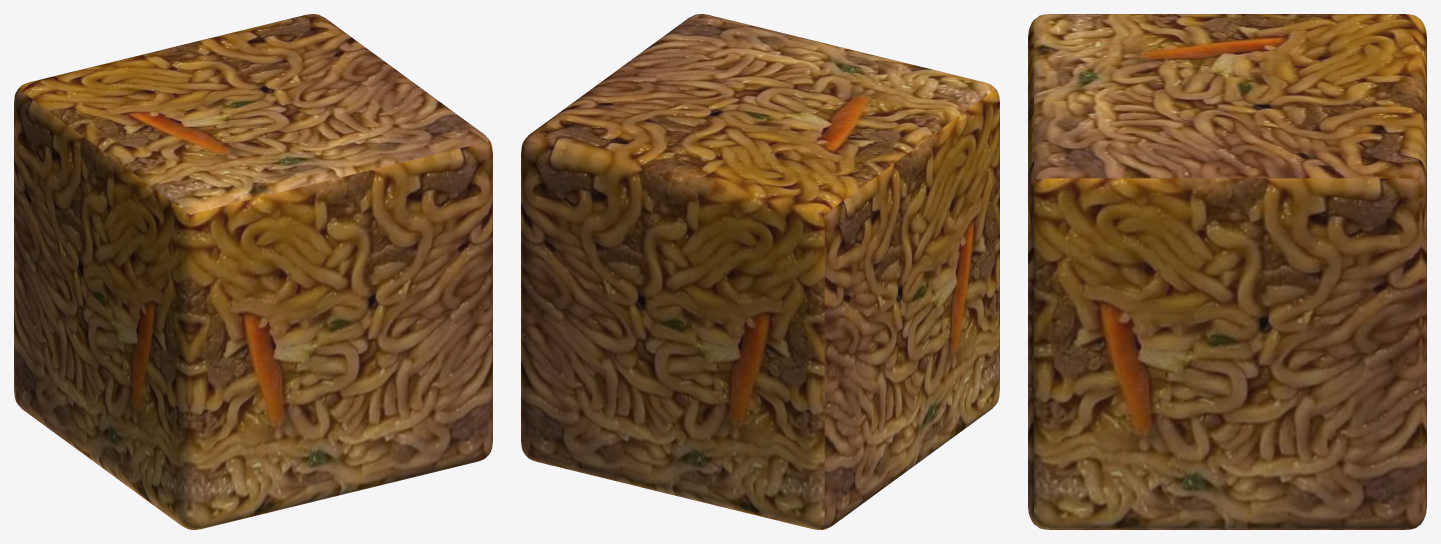
3 renders of one model, left to right at view 1: azimuth 30°, elevation 25°; view 2: azimuth 150°, elevation 25°; view 3: azimuth 270°, elevation 25°, orthographic. The views are drawn at different scales.
Visible parts, largest first — view 1: Cube.002; view 2: Cube.002; view 3: Cube.002.
Part boxes in pixels (<box>): Cube.002: <box>14,14,492,529</box>; Cube.002: <box>521,14,999,529</box>; Cube.002: <box>1028,14,1426,529</box>.
Size of the model in its own units: 2 by 2 by 2.
1 material, 1 textured.
